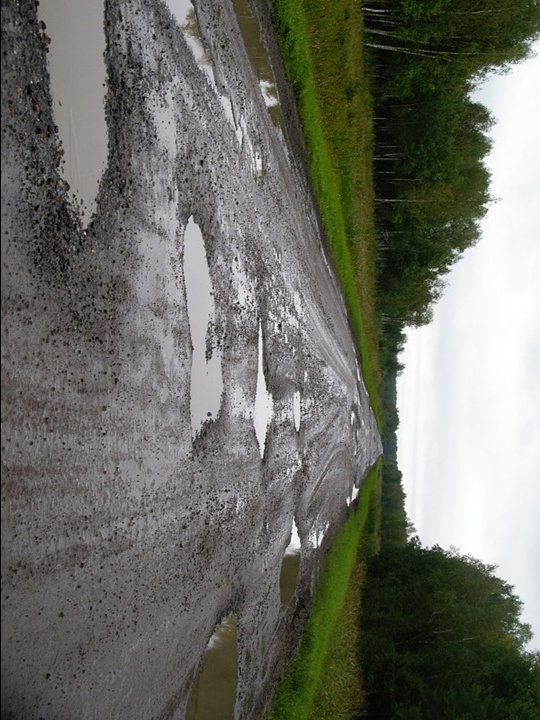pothole: (39, 1, 129, 225), (181, 216, 225, 468), (178, 611, 256, 716), (245, 317, 276, 464), (271, 517, 304, 617), (228, 244, 268, 313), (213, 60, 237, 154), (167, 1, 204, 61), (242, 124, 267, 182), (287, 386, 304, 434), (344, 477, 364, 508), (348, 405, 360, 435)
